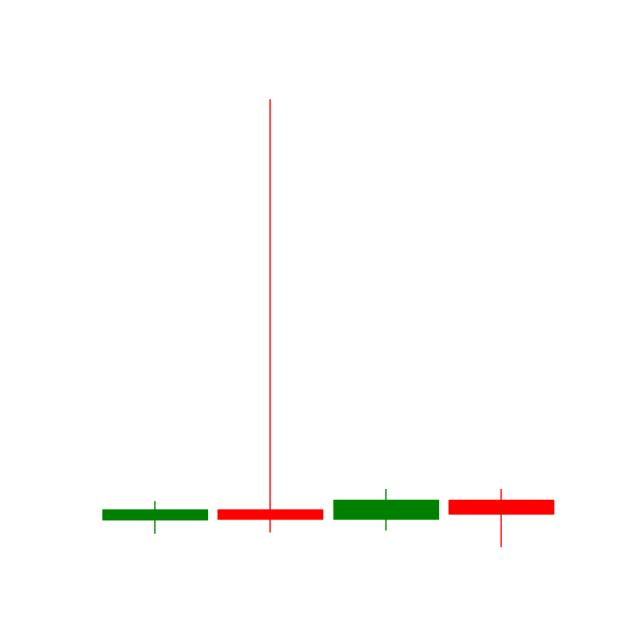Gravenstone Doji: (218, 97, 324, 534)
spinning top: (330, 487, 440, 534)
